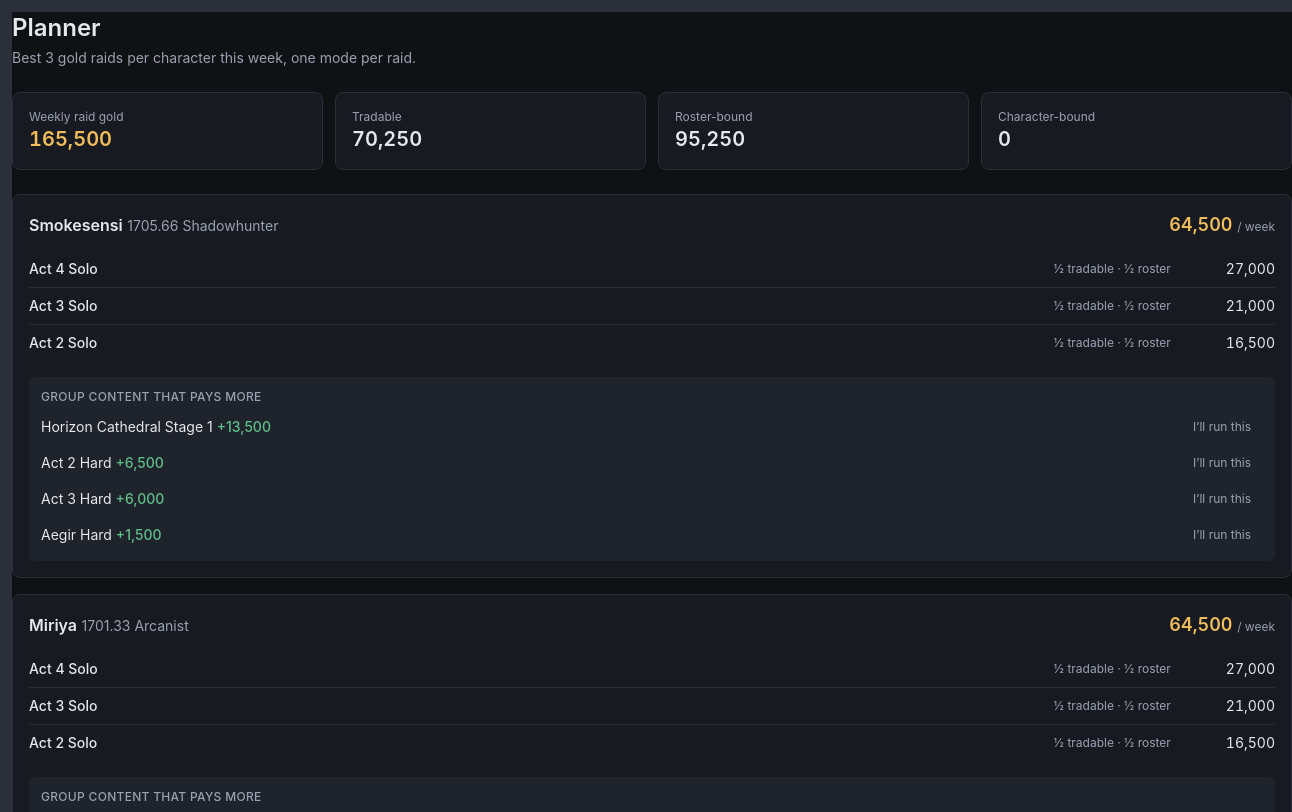
Test: PlannerPage › adopting a group upgrade updates the lineup
Step 1. Click the 1st button "I’ll run this" → [1222, 427], box [1181, 413, 1263, 441]
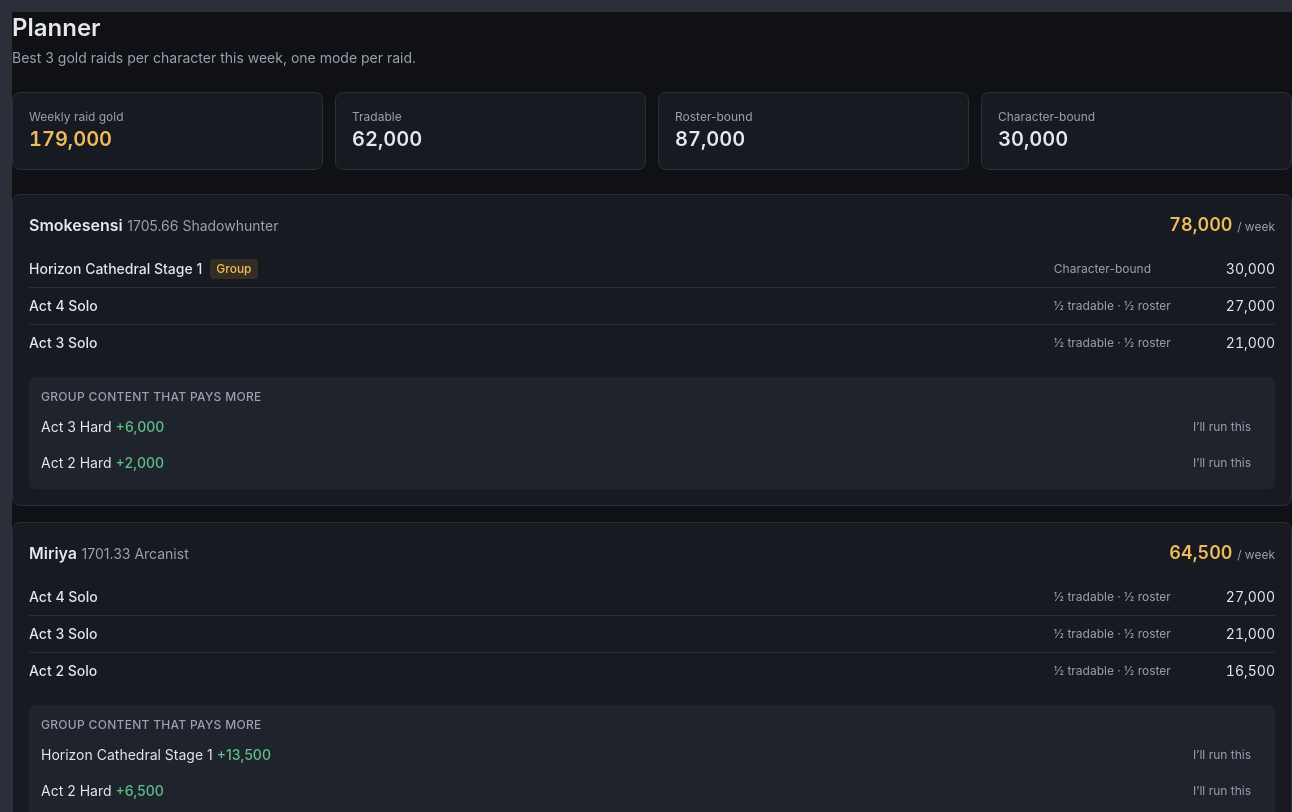
Result: the text "78,000" is shown at [1169, 214, 1232, 235]
